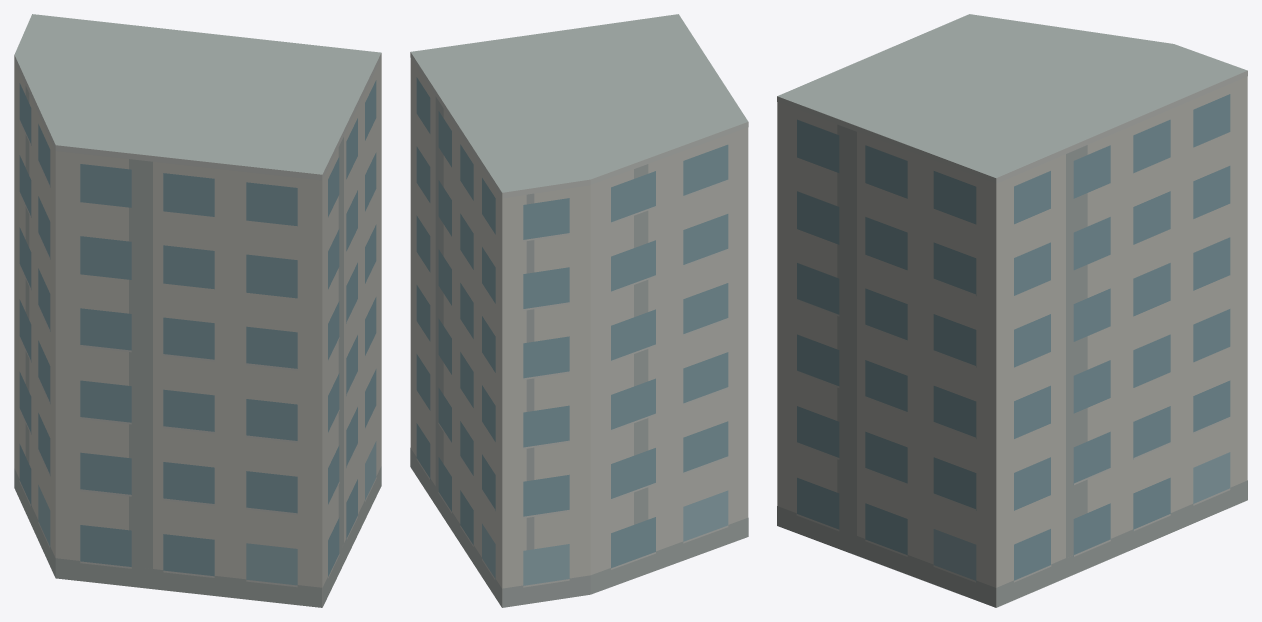
The model's file is survey-upis-32810235.glb.
3 views of the same model, side by side, from view 1: azimuth 30°, elevation 25°; view 2: azimuth 150°, elevation 25°; view 3: azimuth 270°, elevation 25° (orthographic). The views are drawn at different scales.
Parts seen in each view (by area): view 1: survey-upis-32810235.tmp; view 2: survey-upis-32810235.tmp; view 3: survey-upis-32810235.tmp.
Part boxes in pixels (x1,y1,x2,y2): survey-upis-32810235.tmp: (14,14,381,607); survey-upis-32810235.tmp: (410,14,748,607); survey-upis-32810235.tmp: (777,14,1247,607).
Bounding box in the file's own units: 15.01 × 18.3 × 18.17.
